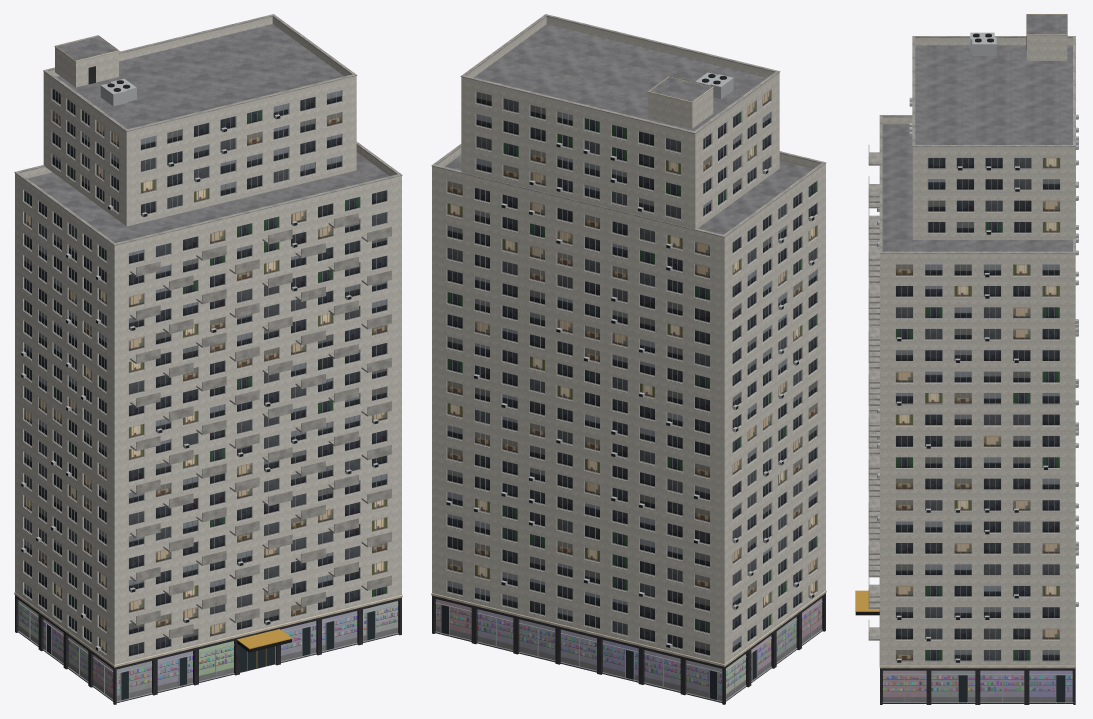
The model's file is hd14_postwar_white_brick.gltf.
The picture shows the model from 3 angles, left to right: view 1: azimuth 30°, elevation 25°; view 2: azimuth 150°, elevation 25°; view 3: azimuth 270°, elevation 25°; orthographic projection. The views are drawn at different scales.
Parts seen in each view (by area): view 1: hd14_postwar_white_brick_LOD0; view 2: hd14_postwar_white_brick_LOD0; view 3: hd14_postwar_white_brick_LOD0.
Part boxes in pixels (<box>): hd14_postwar_white_brick_LOD0: <box>14,14,402,704</box>; hd14_postwar_white_brick_LOD0: <box>431,14,826,704</box>; hd14_postwar_white_brick_LOD0: <box>855,14,1078,704</box>.
Size of what is drawn, in the model's own units: 40.72 by 77.25 by 27.38.
Materials: 14 (7 with a texture image).
